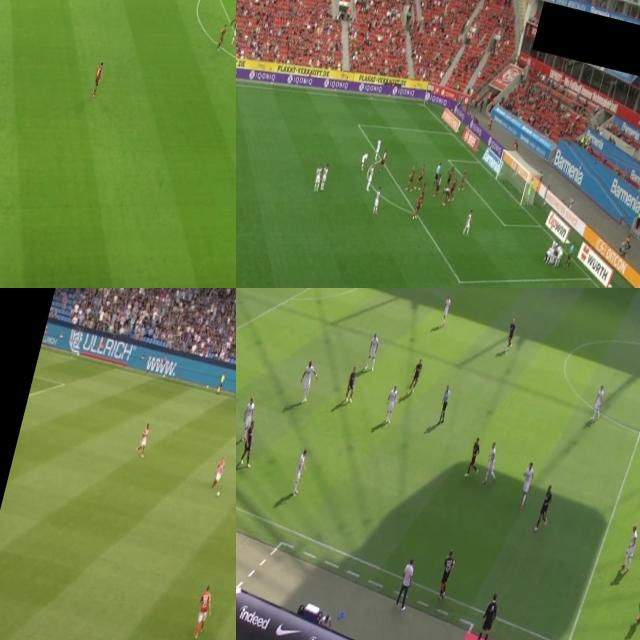ball: (445, 550, 455, 566), (213, 489, 222, 498)
player: (290, 354, 322, 408), (432, 542, 460, 600), (476, 436, 505, 492), (512, 454, 540, 510), (287, 440, 312, 500), (584, 378, 612, 430), (236, 390, 262, 444), (191, 582, 216, 638), (236, 416, 262, 468), (461, 430, 488, 480), (535, 482, 556, 530), (621, 517, 640, 567), (381, 382, 403, 424), (361, 328, 382, 370), (342, 360, 362, 402), (135, 421, 154, 462), (88, 58, 106, 101), (501, 316, 520, 356), (408, 352, 426, 394), (211, 452, 228, 493), (438, 292, 456, 328), (214, 22, 229, 54), (632, 564, 640, 621), (318, 160, 331, 192), (370, 186, 382, 220), (461, 208, 474, 239), (364, 164, 377, 192), (357, 150, 371, 176), (414, 162, 426, 192), (438, 184, 453, 207), (446, 174, 458, 202), (312, 164, 324, 192), (552, 242, 564, 268), (372, 136, 383, 163), (456, 166, 467, 192), (412, 190, 422, 218), (404, 167, 416, 190), (378, 145, 388, 172), (524, 177, 534, 202), (547, 238, 557, 262), (433, 171, 443, 195), (446, 164, 456, 188), (418, 182, 428, 204), (230, 14, 236, 47), (549, 252, 557, 264)
